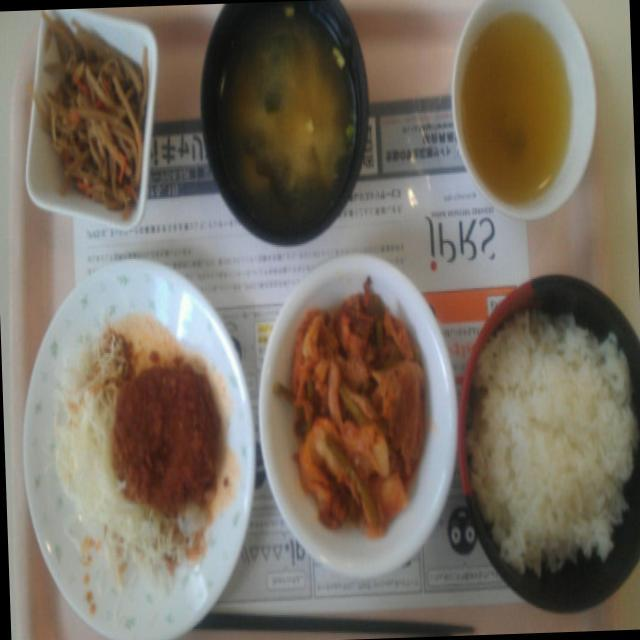Rice: (468, 300, 640, 563)
